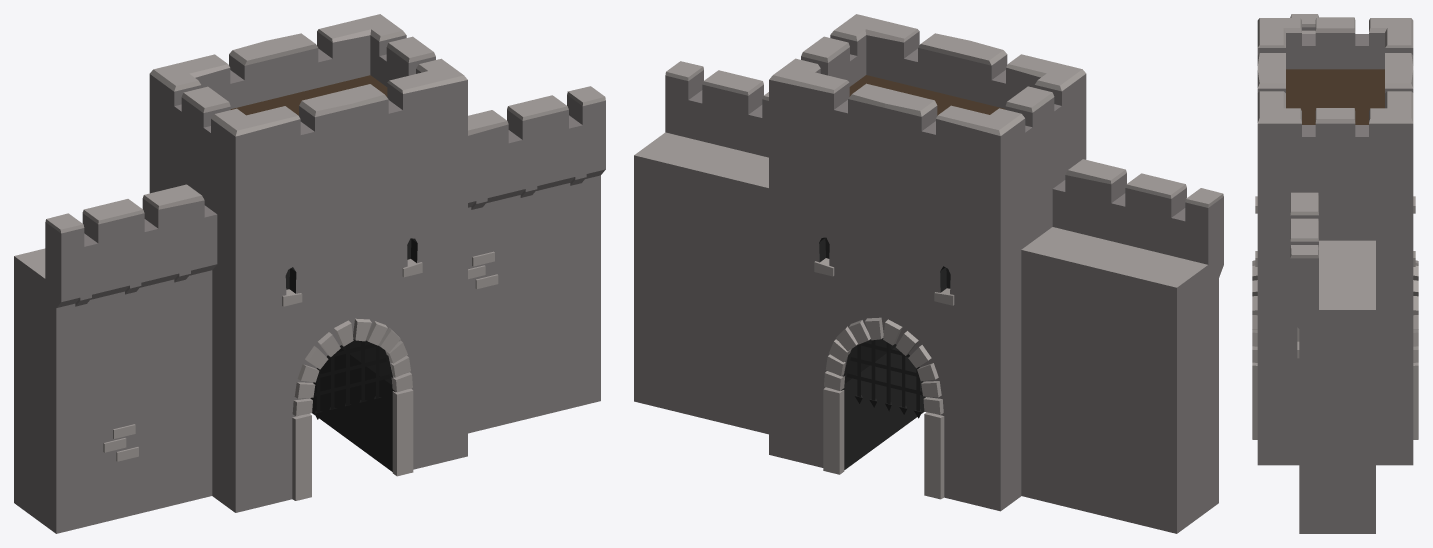
The model's file is medieval_gate-medieval_small.fbx.
3 renders of one model, left to right at view 1: azimuth 30°, elevation 25°; view 2: azimuth 150°, elevation 25°; view 3: azimuth 270°, elevation 25°, orthographic. The views are drawn at different scales.
Visible parts, largest first — view 1: medieval_gate_medieval_small; view 2: medieval_gate_medieval_small; view 3: medieval_gate_medieval_small.
Part boxes in pixels (x1=…): medieval_gate_medieval_small: x1=14, y1=14, x2=605, y2=533; medieval_gate_medieval_small: x1=634, y1=14, x2=1223, y2=533; medieval_gate_medieval_small: x1=1252, y1=14, x2=1418, y2=533.
Size of the model in its own units: 200 by 134 by 58.23.
